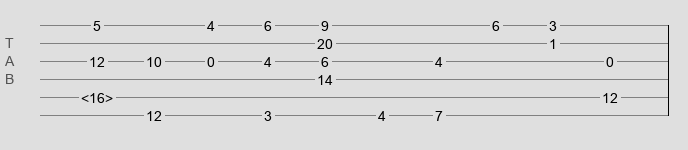0: (207, 54, 215, 64), (606, 54, 614, 64)
1: (549, 36, 557, 46)
10: (146, 54, 162, 64)
12: (89, 54, 105, 64), (146, 108, 162, 118), (602, 90, 618, 100)
14: (317, 72, 333, 82)
20: (317, 36, 333, 46)
3: (264, 108, 272, 118), (549, 18, 557, 28)
4: (207, 18, 215, 28), (264, 54, 272, 64), (378, 108, 386, 118), (435, 54, 443, 64)
5: (93, 18, 101, 28)
6: (264, 18, 272, 28), (321, 54, 329, 64), (492, 18, 500, 28)
7: (435, 108, 443, 118)
9: (321, 18, 329, 28)
harmonic: (81, 90, 113, 100)
